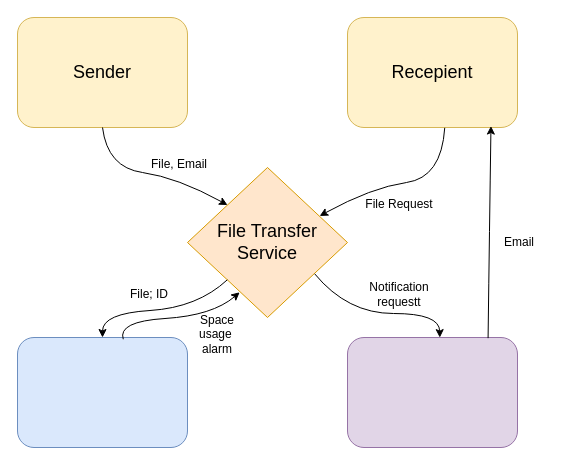
Some shapes in this 567 by 465 pixel diagram are drawn without their labels. The box of each missing label's shape, as (x1, y1, x2, y2) in pixels:
Cloud(FileStorage): (16, 336, 188, 448)
Email Service: (346, 336, 518, 448)
